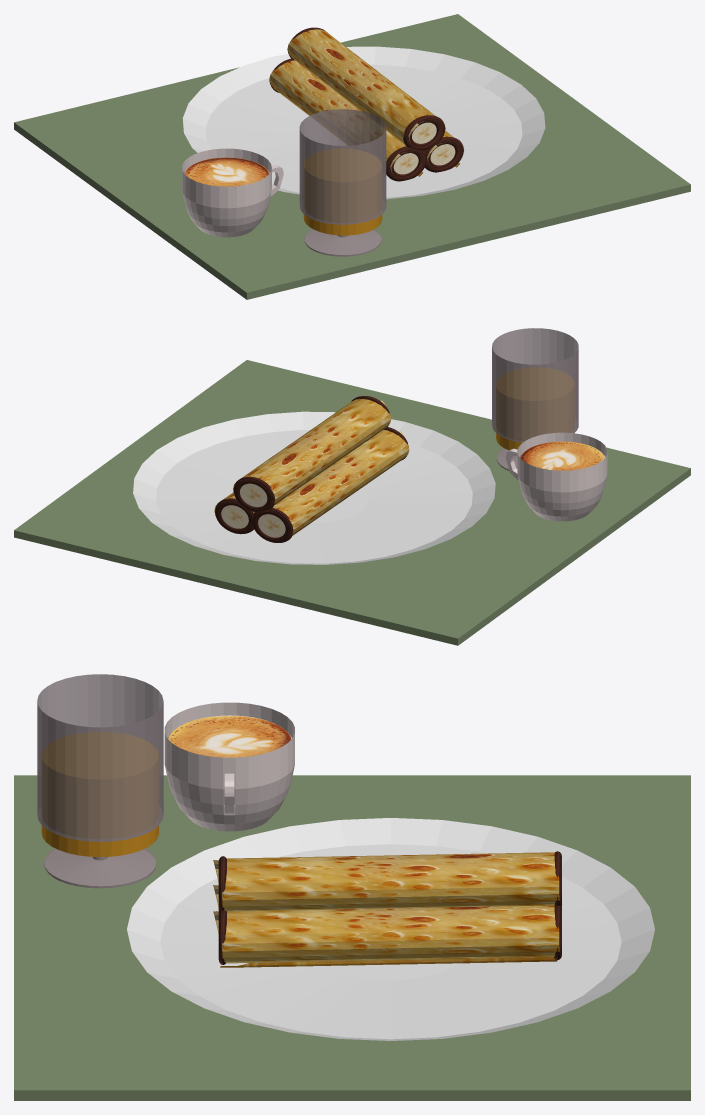
The model's file is Manu3Francia.glb.
3 renders of one model, top to bottom at view 1: azimuth 30°, elevation 25°; view 2: azimuth 150°, elevation 25°; view 3: azimuth 270°, elevation 25°, orthographic. The views are drawn at different scales.
Parts seen in each view (by area): view 1: Cube, Cylinder, Cylinder.010, Cylinder.007, Cylinder.011, Circle, Cylinder.006, Cylinder.012, Torus.005, Torus.002, Torus.001; view 2: Cube, Cylinder, Cylinder.010, Cylinder.007, Circle, Cylinder.011, Cylinder.006, Cylinder.012, Torus.004, Torus.003, Torus, Cylinder.005 (+2 smaller); view 3: Cube, Cylinder, Cylinder.010, Cylinder.001, Cylinder.007, Cylinder.011, Circle, Cylinder.012.
Part boxes in pixels (x1,y1,x2,y2): Cube: [14, 14, 690, 299]; Cylinder: [182, 46, 545, 199]; Cylinder.010: [299, 109, 386, 256]; Cylinder.007: [287, 29, 445, 150]; Cylinder.011: [303, 149, 382, 235]; Circle: [181, 148, 283, 237]; Cylinder.006: [269, 60, 423, 176]; Cylinder.012: [184, 157, 269, 186]; Torus.005: [403, 115, 445, 150]; Torus.002: [386, 146, 425, 181]; Torus.001: [424, 136, 463, 172]; Cube: [14, 360, 690, 645]; Cylinder: [133, 411, 495, 564]; Cylinder.010: [492, 328, 578, 470]; Cylinder.007: [233, 399, 390, 504]; Circle: [506, 432, 607, 521]; Cylinder.011: [496, 368, 573, 450]; Cylinder.006: [257, 430, 409, 535]; Cylinder.012: [519, 441, 605, 470]; Torus.004: [233, 476, 275, 512]; Torus.003: [253, 508, 293, 542]; Torus: [215, 498, 253, 534]; Cylinder.005: [258, 514, 285, 537]; Cube: [14, 775, 690, 1100]; Cylinder: [127, 818, 654, 1040]; Cylinder.010: [37, 674, 163, 888]; Cylinder.001: [213, 905, 559, 967]; Cylinder.007: [213, 852, 559, 911]; Cylinder.011: [41, 732, 158, 856]; Circle: [164, 702, 294, 831]; Cylinder.012: [167, 715, 292, 757].
Size of the model in its own units: 22.67 by 5.85 by 20.59.
Materials: 22 (17 with a texture image).
